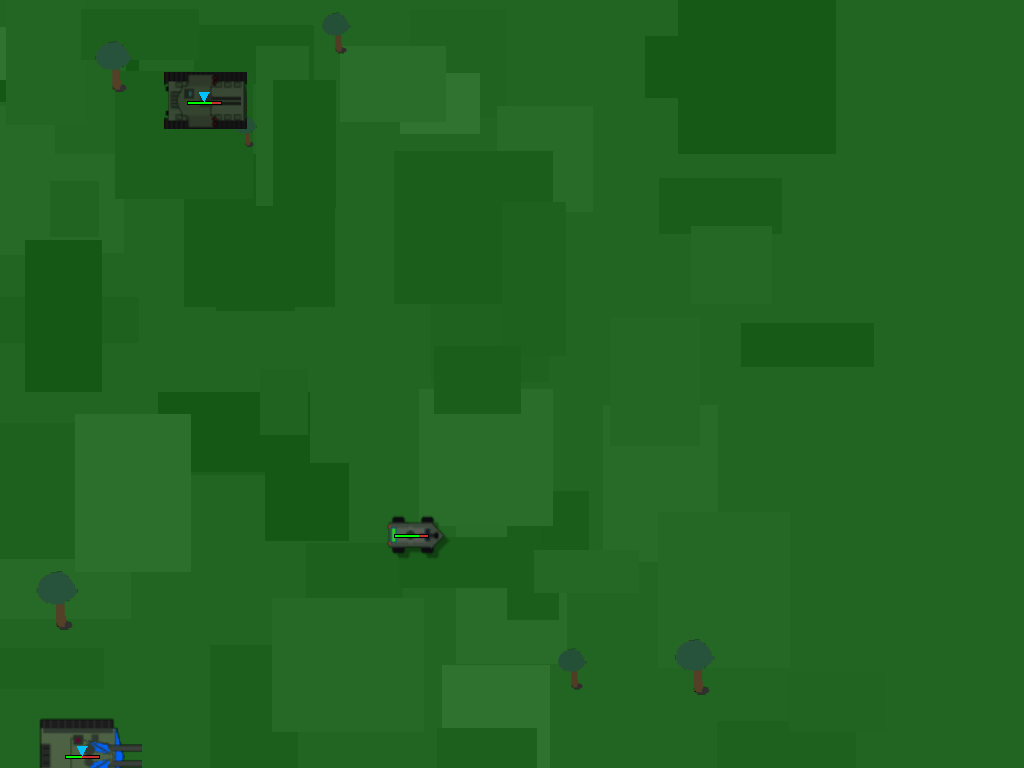M1A2_usa: (387, 509, 434, 556)
Mi24: (172, 68, 236, 132)
MiningRig: (42, 715, 120, 768)
